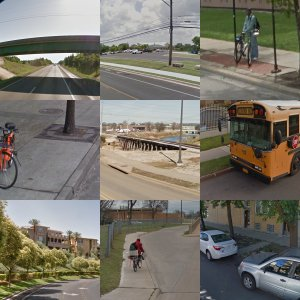汽車: (17, 137, 77, 167), (144, 256, 160, 270)
行人穿越道: (1, 241, 94, 300), (101, 49, 187, 100), (200, 240, 276, 277)
